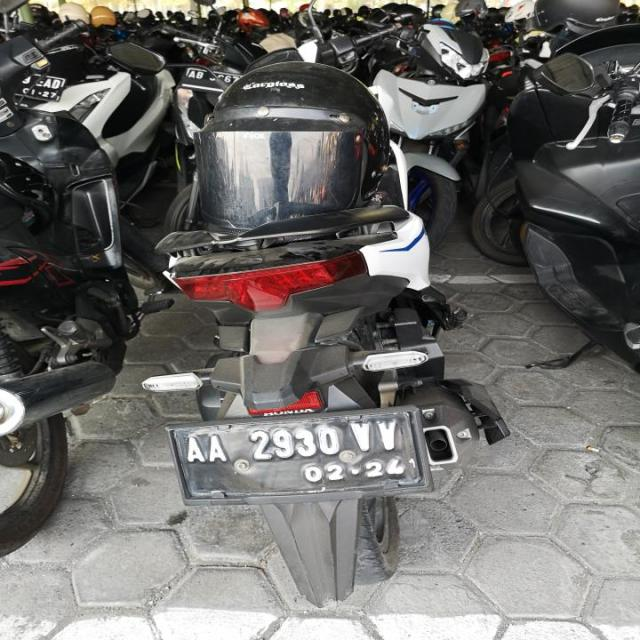License Plate: (145, 411, 437, 497)
